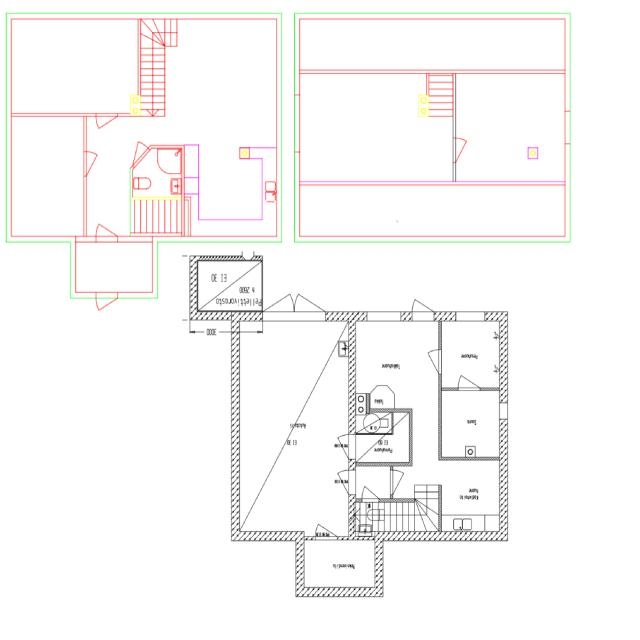door: (262, 278, 294, 321), (294, 278, 326, 321), (117, 130, 150, 168), (326, 435, 356, 459), (96, 211, 118, 243), (412, 289, 434, 321), (327, 470, 356, 494), (95, 292, 117, 323), (96, 113, 118, 141), (315, 512, 337, 540), (458, 363, 480, 391), (83, 152, 108, 176), (453, 138, 478, 162), (417, 350, 441, 374), (390, 470, 414, 494), (362, 480, 379, 502)
